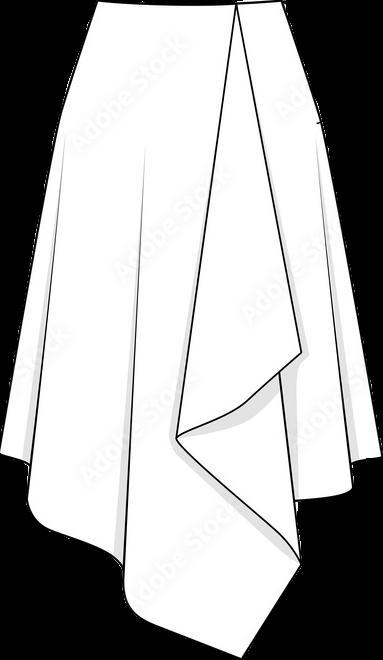Hemline: (0, 3, 307, 659), (291, 448, 382, 507)
Waistline: (96, 0, 287, 10)
